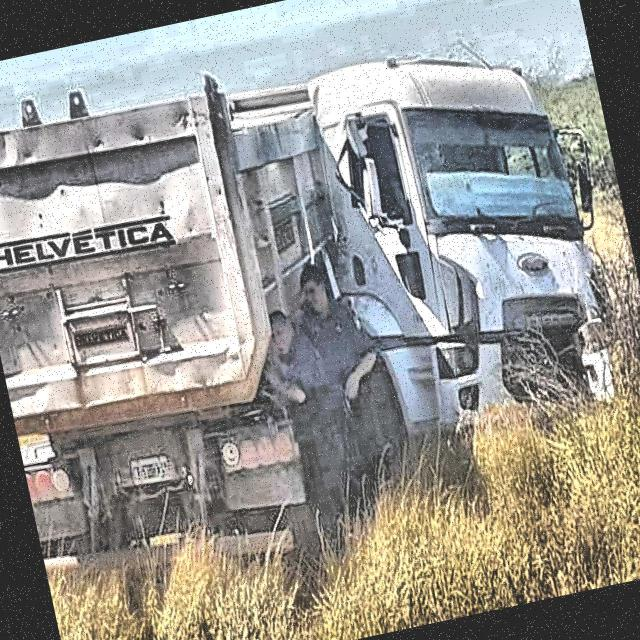dump_truck: (0, 0, 638, 597)
